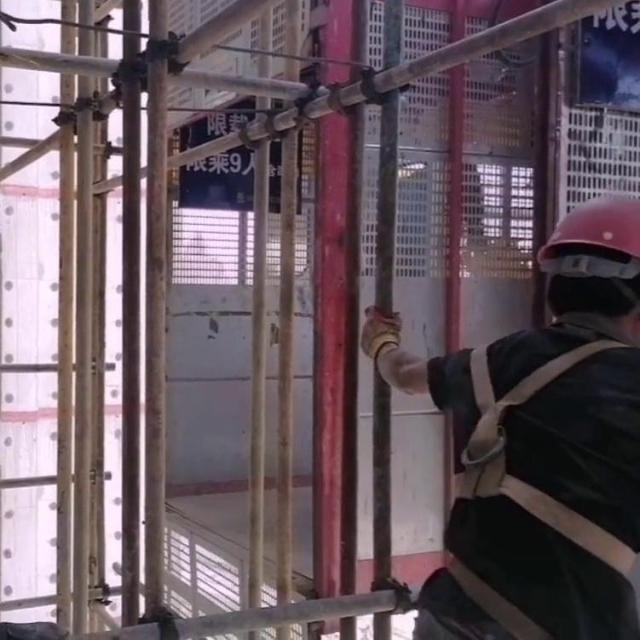Arnes_seguridad: (447, 312, 639, 582)
